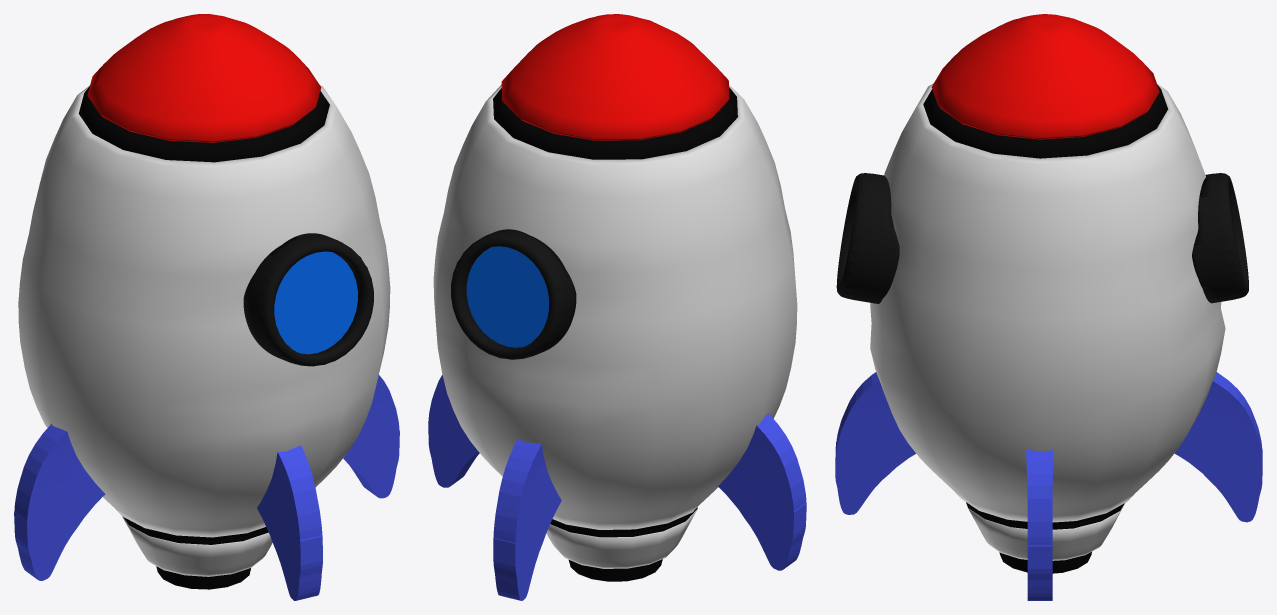
File: Rocket3.fbx
The picture shows the model from 3 angles, left to right: view 1: azimuth 30°, elevation 25°; view 2: azimuth 150°, elevation 25°; view 3: azimuth 270°, elevation 25°; orthographic projection. The views are drawn at different scales.
Parts seen in each view (by area): view 1: Rocket2; view 2: Rocket2; view 3: Rocket2.
Boxes of the visible parts, bbox=[...] form: Rocket2: bbox=[14, 14, 399, 600]; Rocket2: bbox=[428, 14, 806, 600]; Rocket2: bbox=[835, 14, 1262, 600].
Bounding box in the file's own units: 421 × 591 × 430.
